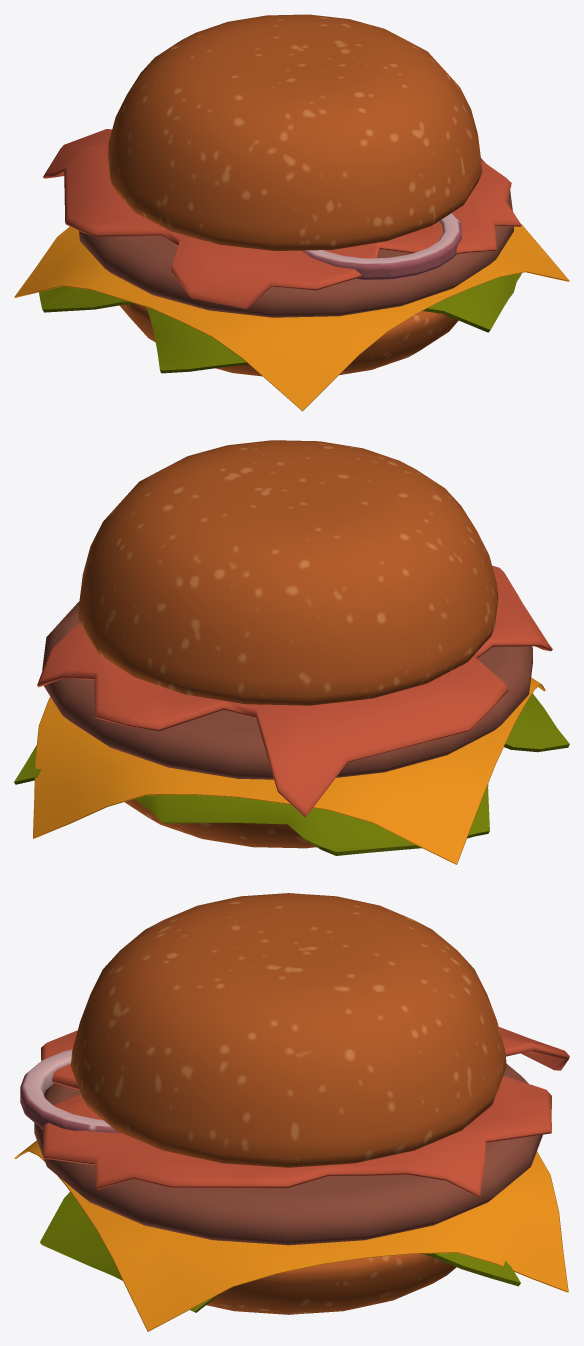
3 renders of one model, top to bottom at view 1: azimuth 30°, elevation 25°; view 2: azimuth 150°, elevation 25°; view 3: azimuth 270°, elevation 25°, orthographic. The views are drawn at different scales.
Parts seen in each view (by area): view 1: SM_BURGER (×6), polySurface764; view 2: SM_BURGER (×5), polySurface764; view 3: SM_BURGER (×6), polySurface764.
Part boxes in pixels (x1,y1,x2,y2): SM_BURGER (×6): (39, 14, 521, 376); polySurface764: (14, 224, 569, 411); SM_BURGER (×5): (14, 440, 569, 855); polySurface764: (33, 677, 545, 864); SM_BURGER (×6): (20, 893, 569, 1314); polySurface764: (14, 1140, 568, 1331).
Bounding box in the file's own units: 1.37 × 0.8286 × 1.32.
Materials: 1 (1 with a texture image).
